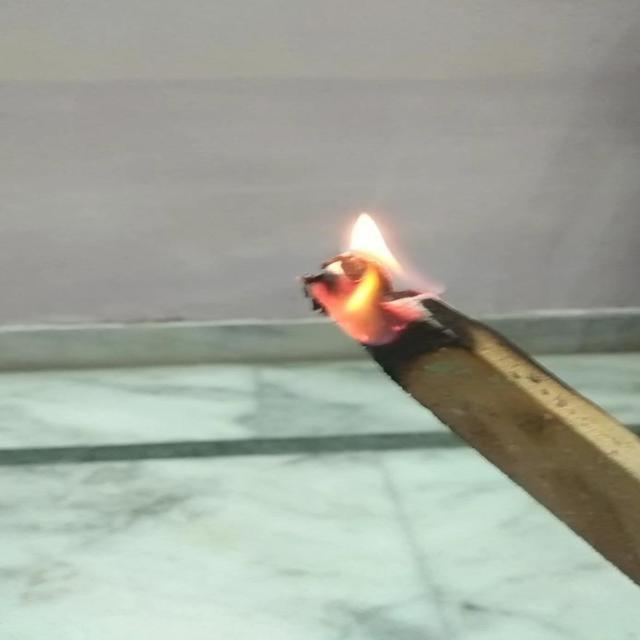smoke: (294, 204, 442, 349)
